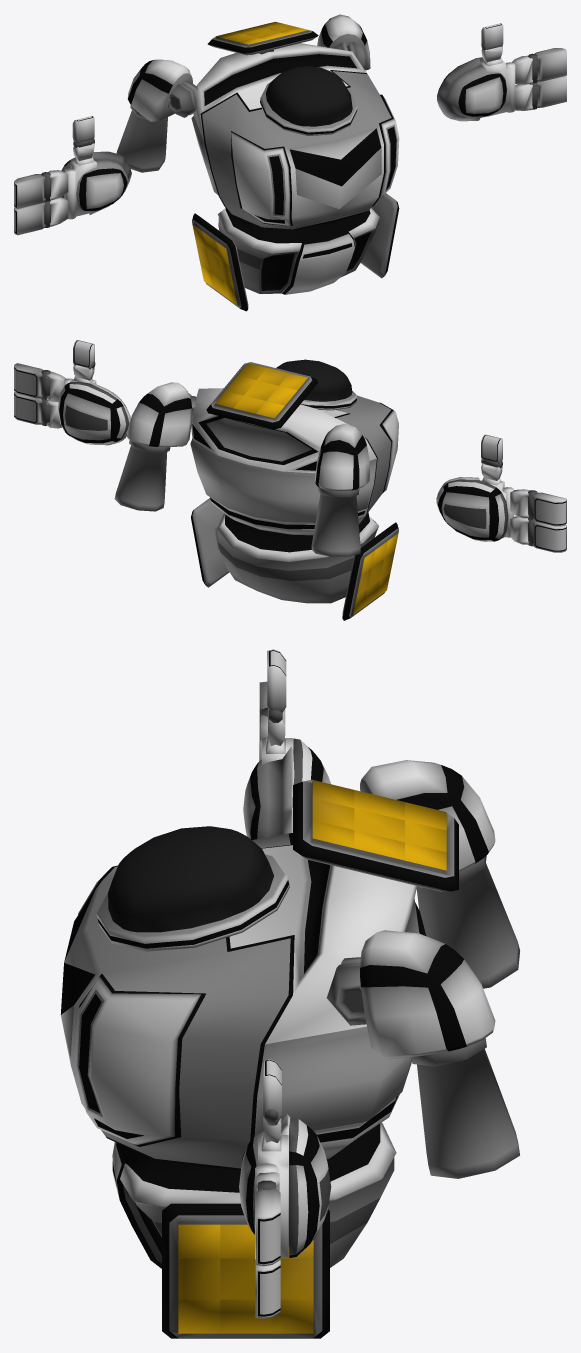
File: GOLEM.fbx
3 views of the same model, one above another, from view 1: azimuth 30°, elevation 25°; view 2: azimuth 150°, elevation 25°; view 3: azimuth 270°, elevation 25° (orthographic). The views are drawn at different scales.
Visible parts, largest first — view 1: Golem, Body.001, Head, Shoulder Pad R, Hand Left, Foot R, Hand Right, Back Dome, Foot L, Shoulder Pad L, Right Index Tip, Hand Right Plate (+12 smaller); view 2: Golem, Body.001, Shoulder Pad L, Shoulder Pad R, Back Dome, Hand Left, Hand Right, Foot R, Head, Foot L, Right Index Tip, Right Pinky Tip (+10 smaller); view 3: Golem, Shoulder Pad L, Head, Foot L, Shoulder Pad R, Back Dome, Body.001, Hand Left, Hand Right, Hand Left Plate, Left Index Tip, Shoulder L (+3 smaller).
Boxes of the visible parts, x1,y1,x2,y2 form: Golem: (191, 43, 399, 230); Body.001: (217, 207, 379, 294); Head: (260, 66, 357, 135); Shoulder Pad R: (116, 59, 192, 172); Hand Left: (437, 57, 507, 121); Foot R: (192, 213, 248, 311); Hand Right: (61, 151, 131, 214); Back Dome: (207, 21, 318, 55); Foot L: (360, 193, 399, 278); Shoulder Pad L: (317, 14, 370, 70); Right Index Tip: (14, 174, 45, 208); Hand Right Plate: (64, 157, 96, 219); Golem: (190, 388, 398, 535); Body.001: (217, 512, 379, 603); Shoulder Pad L: (114, 382, 191, 511); Shoulder Pad R: (311, 423, 370, 556); Back Dome: (206, 362, 317, 429); Hand Left: (58, 381, 130, 445); Hand Right: (436, 477, 508, 541); Foot R: (342, 522, 398, 620); Head: (276, 359, 357, 410); Foot L: (191, 498, 229, 587); Right Index Tip: (532, 492, 566, 526); Right Pinky Tip: (532, 521, 566, 552); Golem: (60, 833, 426, 1170); Shoulder Pad L: (360, 930, 519, 1178); Head: (96, 826, 289, 951); Foot L: (162, 1203, 329, 1338); Shoulder Pad R: (360, 760, 519, 988); Back Dome: (293, 779, 458, 891); Body.001: (112, 1122, 396, 1268); Hand Left: (239, 1114, 331, 1257); Hand Right: (243, 738, 330, 839); Hand Left Plate: (255, 1133, 288, 1259); Left Index Tip: (255, 1188, 280, 1266); Shoulder L: (327, 957, 366, 1025).
Size of the model in its own units: 584 by 235 by 211.
